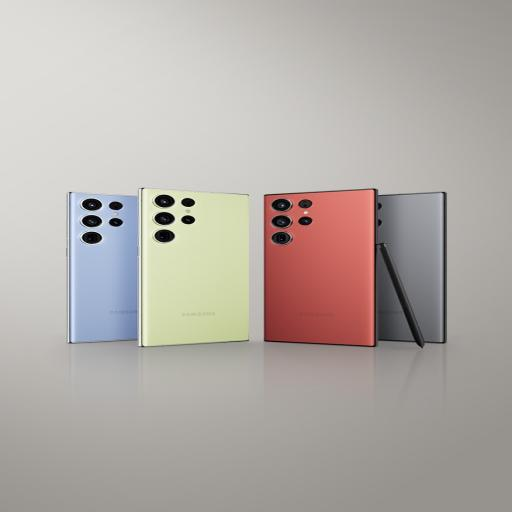phone: (134, 188, 266, 353)
